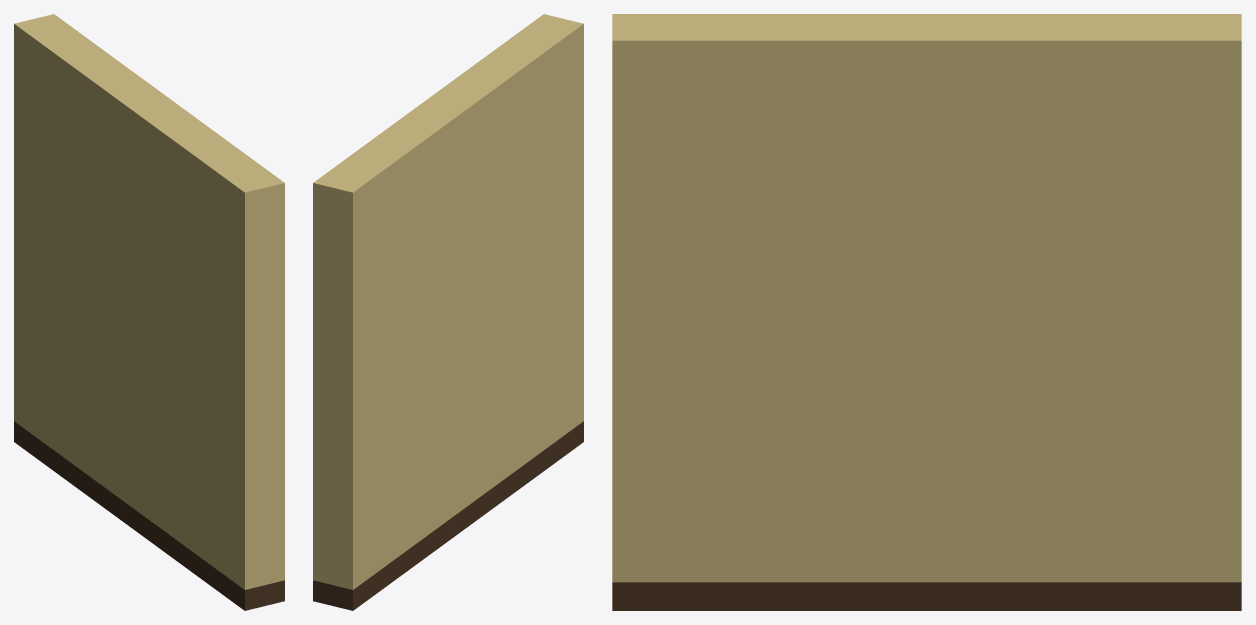
The model's file is Convenience Wall 1.fbx.
3 renders of one model, left to right at view 1: azimuth 30°, elevation 25°; view 2: azimuth 150°, elevation 25°; view 3: azimuth 270°, elevation 25°, orthographic. The views are drawn at different scales.
Visible parts, largest first — view 1: Convenience Wall 1; view 2: Convenience Wall 1; view 3: Convenience Wall 1.
Boxes of the visible parts, x1,y1,x2,y2 form: Convenience Wall 1: (14,14,284,610); Convenience Wall 1: (313,14,583,610); Convenience Wall 1: (612,14,1241,610).
Size of the model in its own units: 100 by 1000 by 1000.
